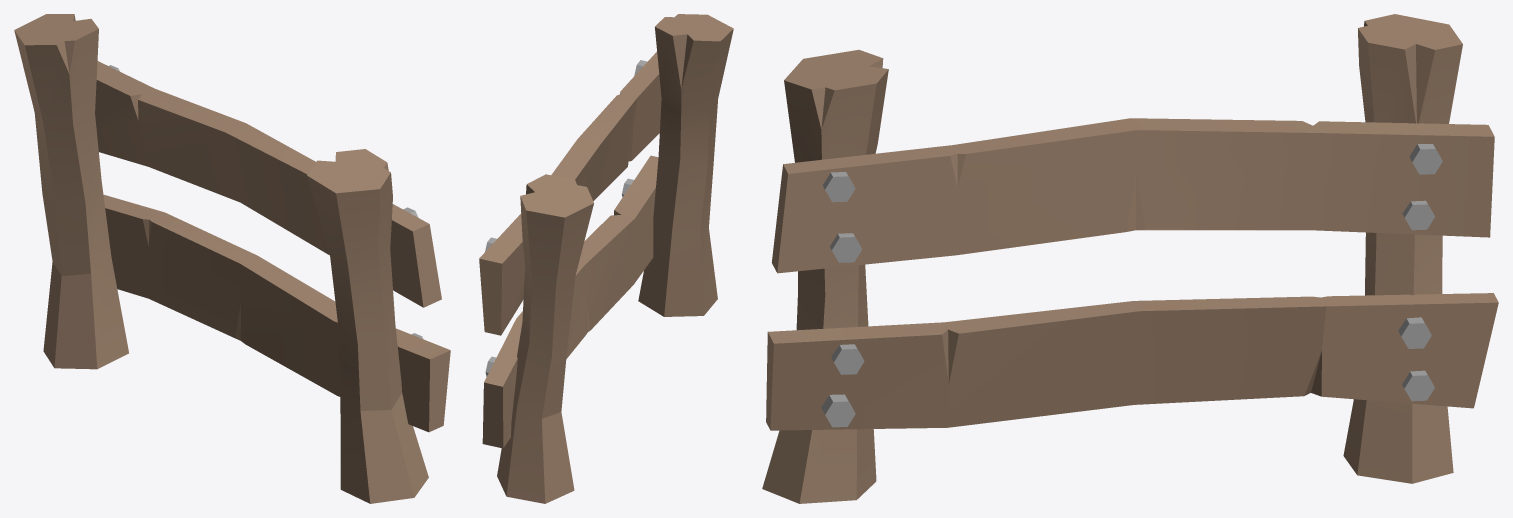
The model's file is fence.fbx.
3 renders of one model, left to right at view 1: azimuth 30°, elevation 25°; view 2: azimuth 150°, elevation 25°; view 3: azimuth 270°, elevation 25°, orthographic. The views are drawn at different scales.
Visible parts, largest first — view 1: fence9; view 2: fence9; view 3: fence9.
Boxes of the visible parts, x1=… form: fence9: x1=14, y1=14, x2=450, y2=503; fence9: x1=479, y1=14, x2=733, y2=503; fence9: x1=762, y1=14, x2=1498, y2=503.
Bounding box in the file's own units: 0.0422 × 0.0747 × 0.1154.
